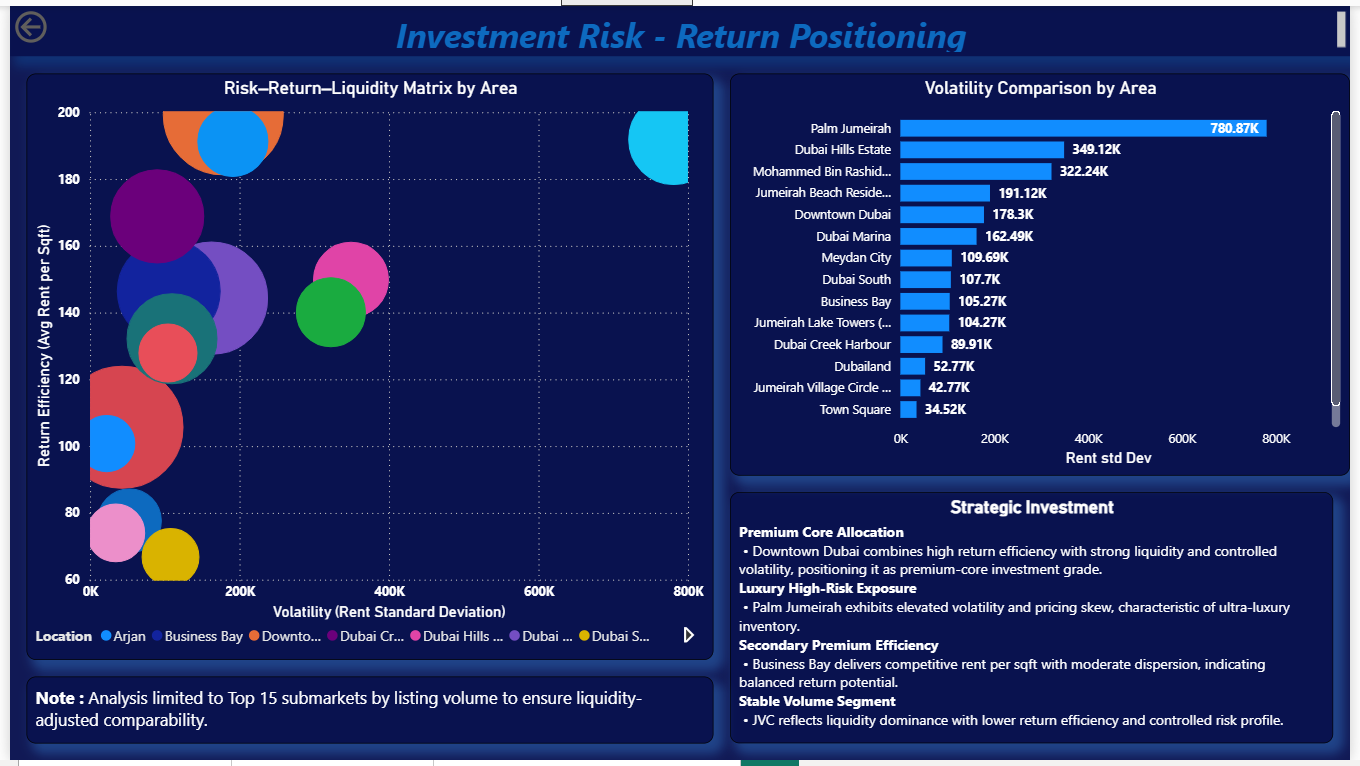

This screenshot's page, from the dashboard's own definition file:
{"tool":"powerbi","page":{"name":"Investment Positioning Matrix","canvas":[1280,720],"ordinal":2},"visuals":[{"type":"textbox","box":[0,0,1280,64],"z":0},{"type":"scatterChart","title":"Risk–Return–Liquidity Matrix by Area","fields":{"Size":["dubai_rentals.Total Listings"],"Series":["dubai_rentals.Location"],"X":["dubai_rentals.Rent std Dev"],"Y":["dubai_rentals.Average Rent per sqft"]},"box":[16,80,656,544],"z":1000},{"type":"textbox","title":"Strategic Investment ","box":[688,464,576,240],"z":2000},{"type":"actionButton","box":[0,0,100,40],"z":3000},{"type":"clusteredBarChart","title":"Volatility Comparison by Area","fields":{"Category":["dubai_rentals.Location"],"Y":["dubai_rentals.Rent std Dev"]},"box":[688,80,592,368],"z":4000},{"type":"textbox","box":[16,640,656,64],"z":5000}]}

Visuals, with their boxes in screenshot pixels (x1, y1, x2, y2), scaled from the page's 1280x720 canvas onto the 1360x766 screenshot:
textbox: <bbox>0, 0, 1359, 68</bbox>
"Risk–Return–Liquidity Matrix by Area" scatterChart: <bbox>17, 85, 714, 664</bbox>
"Strategic Investment " textbox: <bbox>731, 494, 1343, 749</bbox>
actionButton: <bbox>0, 0, 106, 43</bbox>
"Volatility Comparison by Area" clusteredBarChart: <bbox>731, 85, 1359, 477</bbox>
textbox: <bbox>17, 681, 714, 749</bbox>
